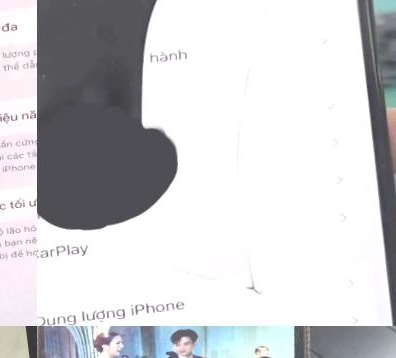physical_damage: (150, 242, 237, 308), (230, 1, 290, 63), (225, 237, 279, 304), (214, 182, 273, 240), (220, 59, 267, 130), (216, 132, 267, 186), (256, 296, 320, 326)
screen_defect: (88, 0, 192, 78), (45, 84, 113, 191), (37, 173, 135, 247), (100, 147, 192, 218), (90, 70, 165, 157), (37, 19, 90, 104), (37, 104, 72, 170), (37, 135, 48, 226)
